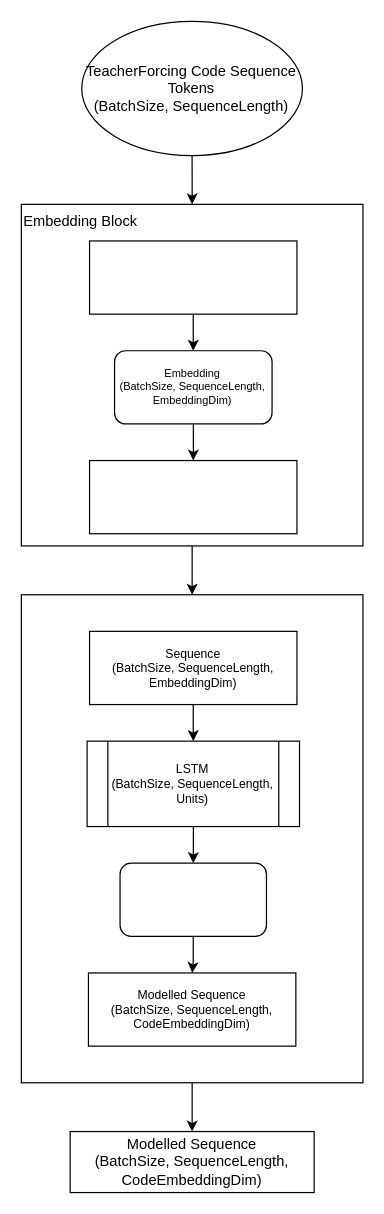
This 384x1214 diagram has some shape labels left out. Here are the shapes that lost their labels. From the top down, the box of each, then its label:
(88, 240, 297, 314): Code Sequence (BatchSize, SequenceLength)
(88, 459, 297, 534): Embedded Sequence (BatchSize, SequenceLength, EmbeddingDim)
(20, 594, 363, 1083): Language Model Block
(119, 862, 266, 936): Time Distributed Dense (BatchSize, SequenceLength, CodeEmbeddingDim)
